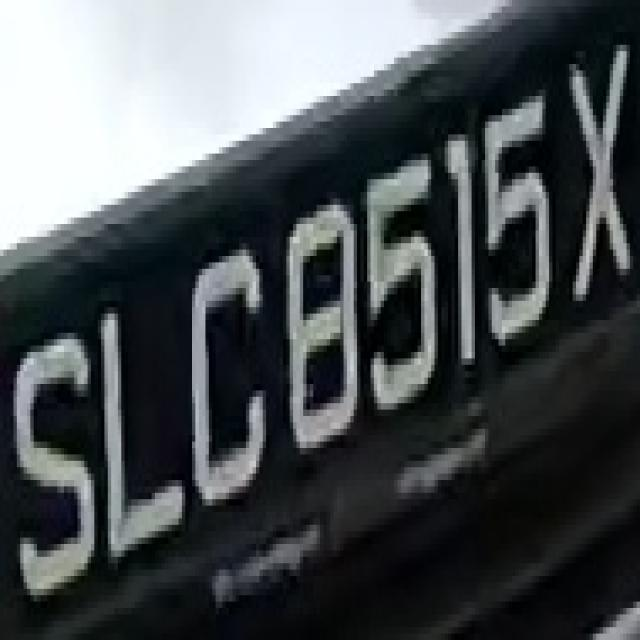1: (438, 115, 478, 397)
5: (360, 147, 444, 429), (472, 90, 556, 352)
8: (280, 185, 364, 460)
C: (185, 230, 283, 512)
L: (98, 294, 192, 564)
S: (10, 308, 98, 614)
X: (559, 25, 633, 314)
